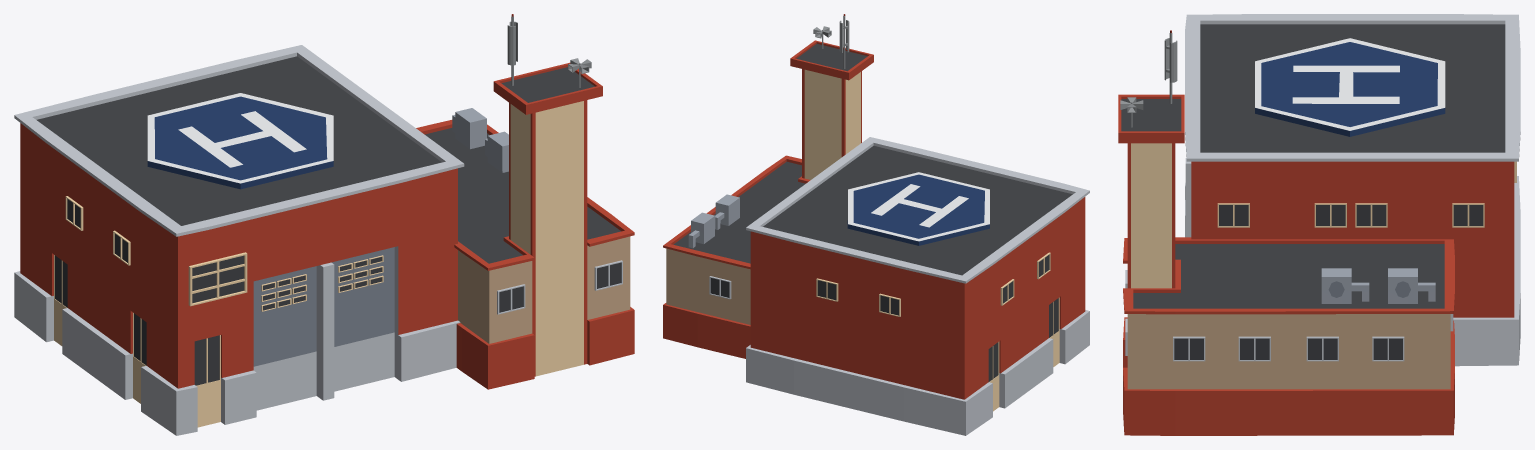
File: Building_Fire_Station.fbx
The picture shows the model from 3 angles, left to right: view 1: azimuth 30°, elevation 25°; view 2: azimuth 150°, elevation 25°; view 3: azimuth 270°, elevation 25°; orthographic projection. The views are drawn at different scales.
Parts seen in each view (by area): view 1: Building_Fire_Station; view 2: Building_Fire_Station; view 3: Building_Fire_Station.
Boxes of the visible parts, bbox=[...] form: Building_Fire_Station: bbox=[14, 14, 634, 435]; Building_Fire_Station: bbox=[663, 14, 1089, 435]; Building_Fire_Station: bbox=[1118, 14, 1520, 435].
Bounding box in the file's own units: 2305 × 1775 × 1824.
